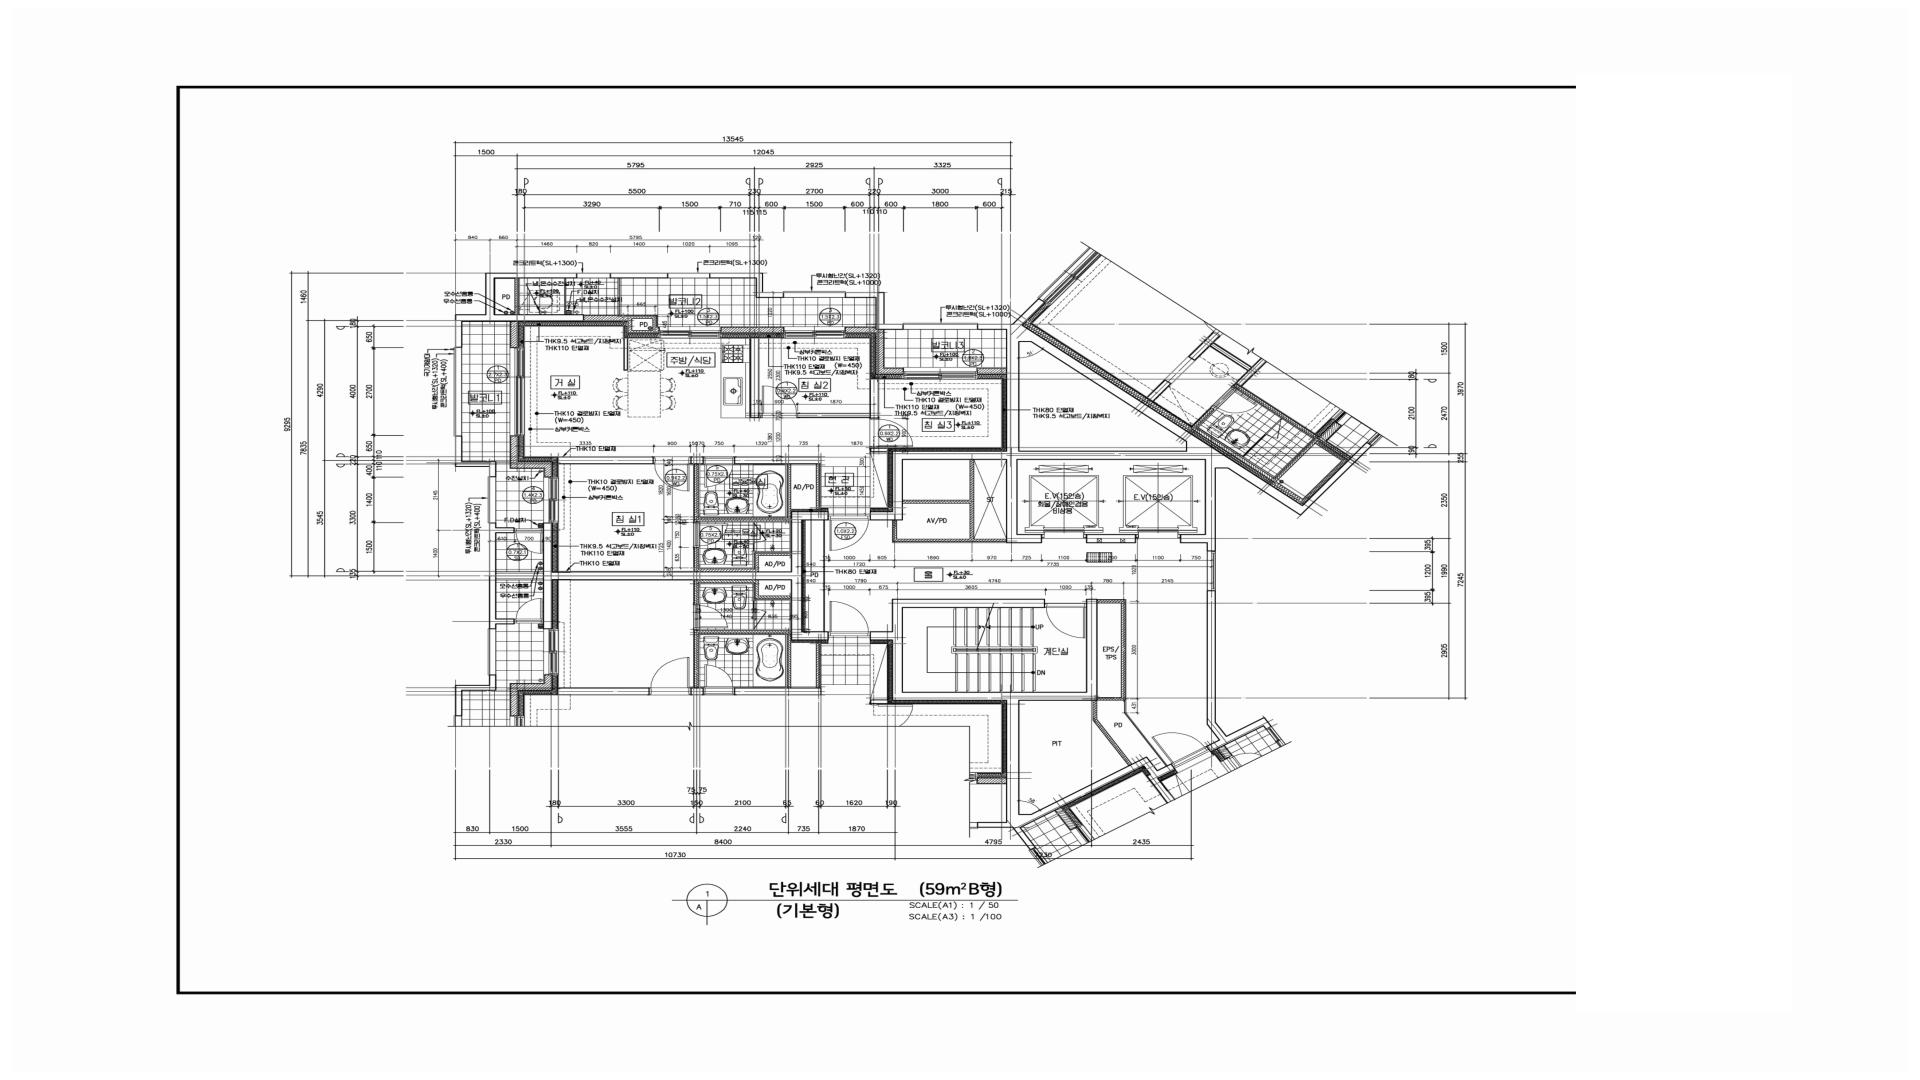door: (1150, 722, 1211, 770), (828, 600, 870, 641), (1045, 602, 1086, 639), (828, 516, 870, 551), (653, 456, 691, 492), (870, 418, 914, 448), (759, 385, 798, 418), (704, 457, 734, 488), (693, 521, 728, 547), (515, 527, 543, 554)
wall: (870, 321, 1216, 551), (870, 598, 1176, 831), (489, 511, 829, 640), (455, 273, 584, 347), (892, 460, 1006, 543), (690, 456, 822, 522), (1206, 590, 1232, 753), (798, 378, 879, 418), (1097, 599, 1126, 701), (844, 327, 903, 375), (1093, 701, 1132, 765), (693, 547, 791, 572), (846, 292, 903, 330), (709, 273, 783, 298), (510, 436, 553, 477), (455, 436, 496, 477), (584, 315, 659, 333), (749, 337, 760, 418), (557, 456, 653, 464), (720, 326, 784, 334), (1086, 534, 1136, 543), (610, 273, 668, 278), (977, 367, 1006, 375), (632, 319, 653, 330), (514, 279, 520, 314), (510, 322, 518, 348), (870, 447, 888, 452)
window: (510, 348, 525, 436), (903, 367, 977, 380), (659, 326, 721, 339), (454, 347, 463, 436), (784, 326, 844, 339), (543, 477, 559, 523), (903, 323, 978, 330), (783, 291, 846, 298), (1206, 551, 1216, 590), (488, 477, 496, 523), (668, 273, 709, 278), (577, 273, 610, 278)
